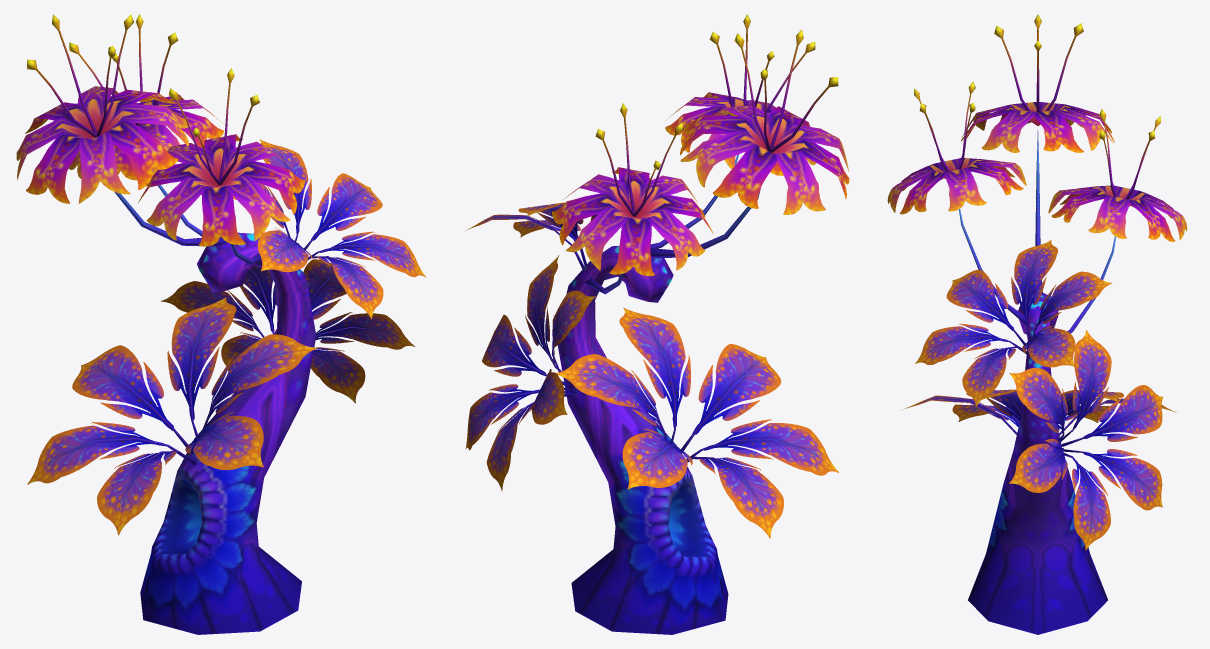
File: Blue_Tree_06c.FBX
3 renders of one model, left to right at view 1: azimuth 30°, elevation 25°; view 2: azimuth 150°, elevation 25°; view 3: azimuth 270°, elevation 25°, orthographic. The views are drawn at different scales.
Visible parts, largest first — view 1: Blue_Tree_06c; view 2: Blue_Tree_06c; view 3: Blue_Tree_06c.
Boxes of the visible parts, bbox=[...] form: Blue_Tree_06c: bbox=[16, 14, 426, 634]; Blue_Tree_06c: bbox=[465, 14, 849, 634]; Blue_Tree_06c: bbox=[887, 14, 1187, 634].
Size of the model in its own units: 314 by 467 by 256.
